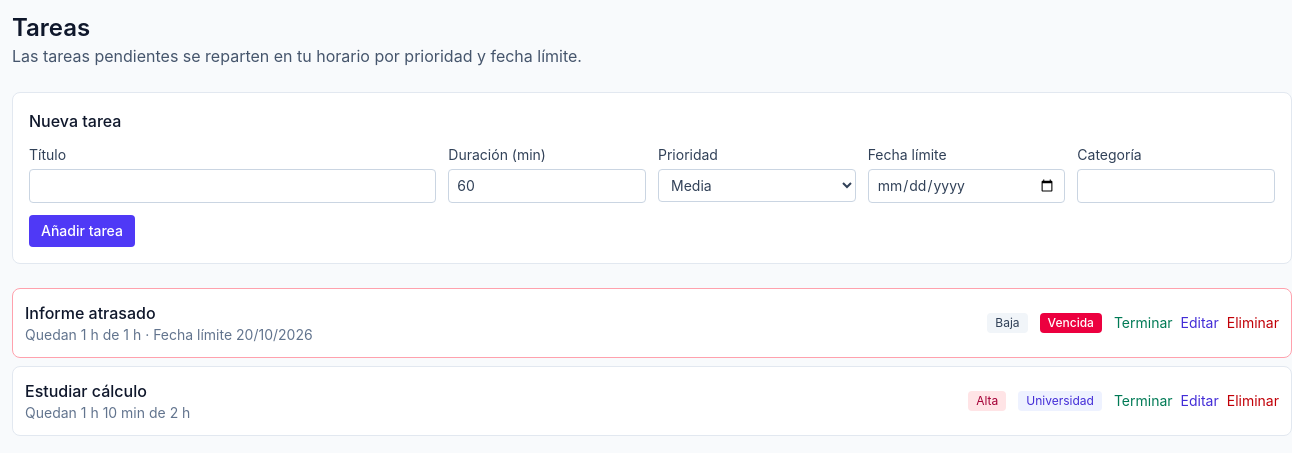
Test: TasksPage (US3) › pide confirmación antes de borrar y no borra si se cancela
Click the button "Eliminar" in the row of "Informe atrasado": x=1253, y=323 [1227, 313, 1279, 333]
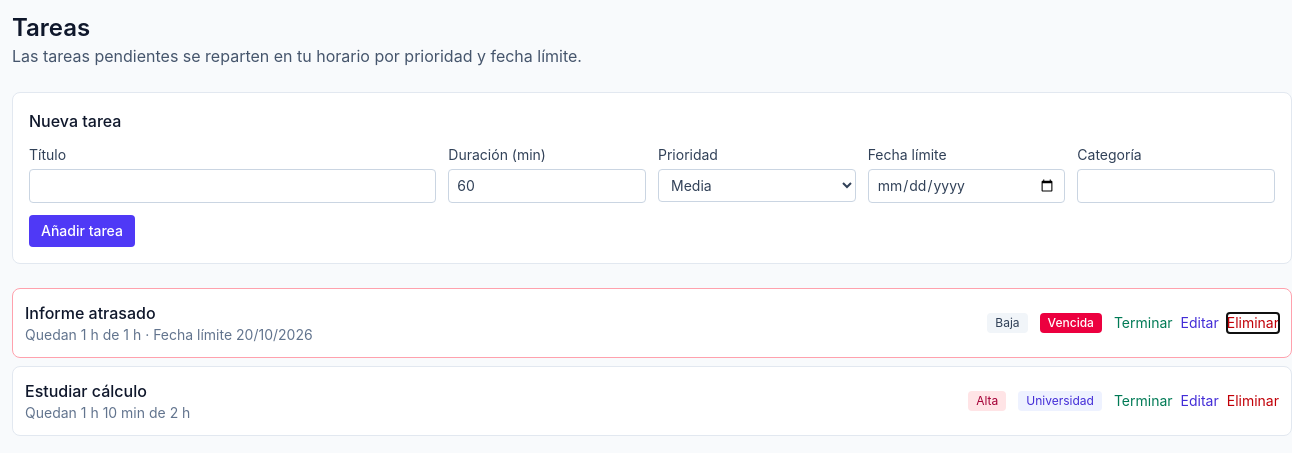
Click the button "Eliminar" in the row of "Informe atrasado": x=1253, y=323 [1227, 313, 1279, 333]
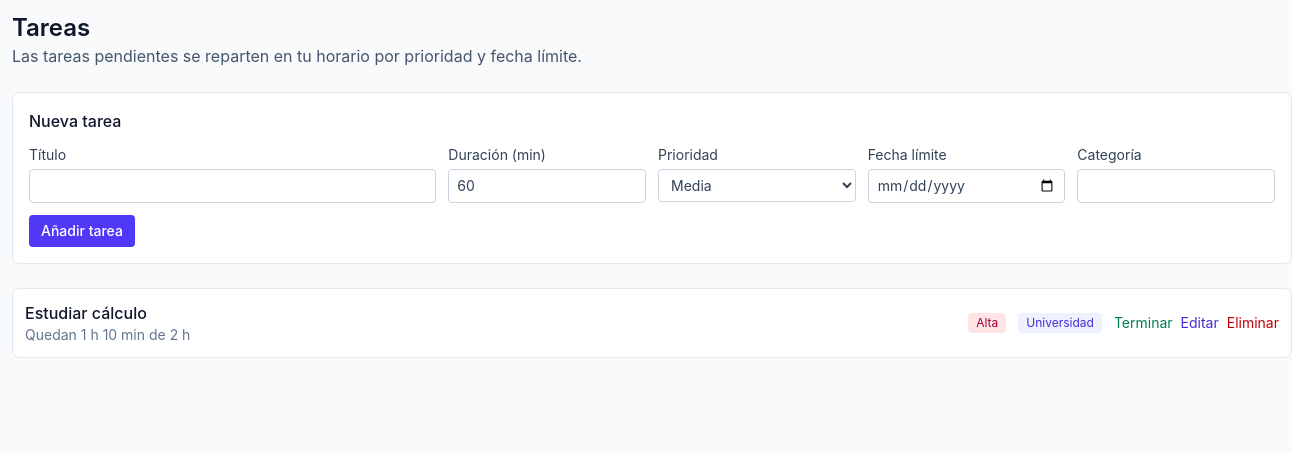
Now the text "Informe atrasado" is gone
